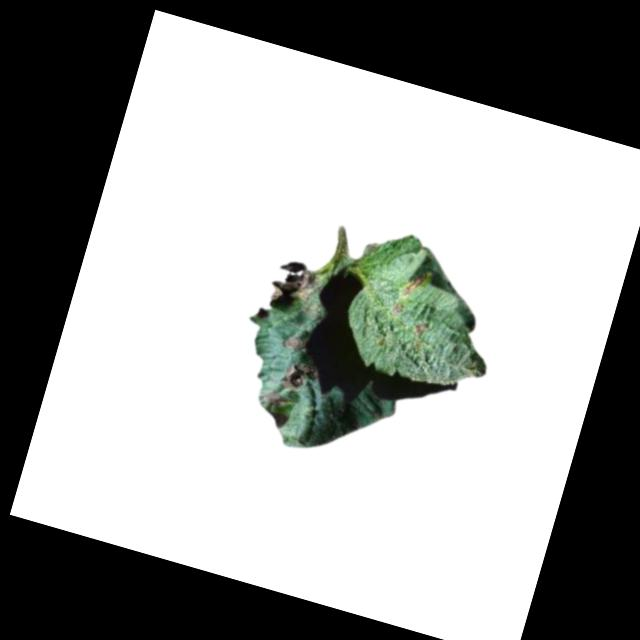Early_blight: (264, 255, 325, 319), (280, 359, 320, 395), (401, 270, 428, 300), (281, 334, 306, 355), (261, 390, 286, 410), (392, 299, 406, 316), (415, 324, 426, 336)
